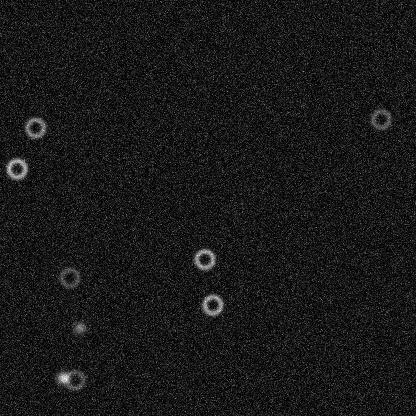Ring: (4, 156, 28, 180), (192, 247, 216, 271), (62, 367, 86, 391), (200, 292, 224, 316), (23, 115, 47, 139), (57, 265, 81, 289), (368, 107, 392, 131)
Spot: (54, 369, 70, 385), (71, 319, 87, 335)
